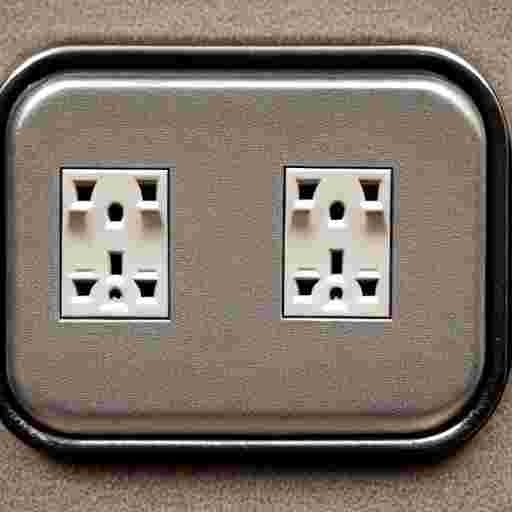power outlet: (0, 46, 511, 453)
